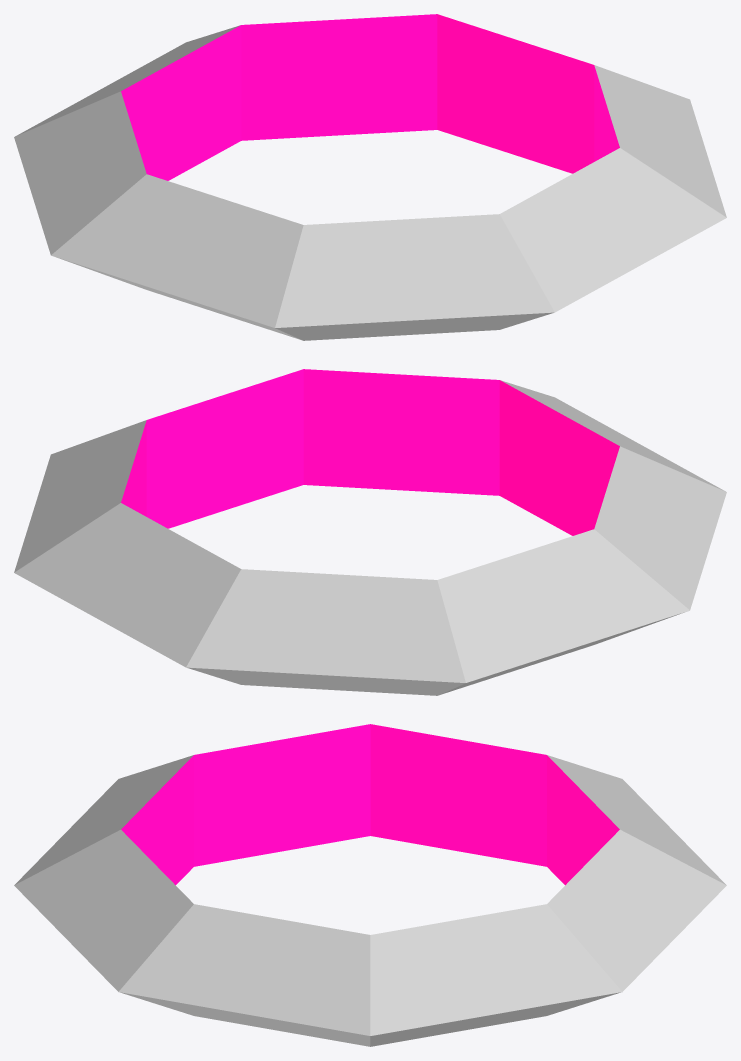
Rendered from enemy1.fbx.
The picture shows the model from 3 angles, top to bottom: view 1: azimuth 30°, elevation 25°; view 2: azimuth 150°, elevation 25°; view 3: azimuth 270°, elevation 25°; orthographic projection. The views are drawn at different scales.
Visible parts, largest first — view 1: Torus.007; view 2: Torus.007; view 3: Torus.007.
Boxes of the visible parts, x1=… form: Torus.007: x1=14, y1=14, x2=726, y2=340; Torus.007: x1=14, y1=369, x2=726, y2=695; Torus.007: x1=14, y1=724, x2=726, y2=1046.
Size of the model in its own units: 250 by 43.3 by 250.
